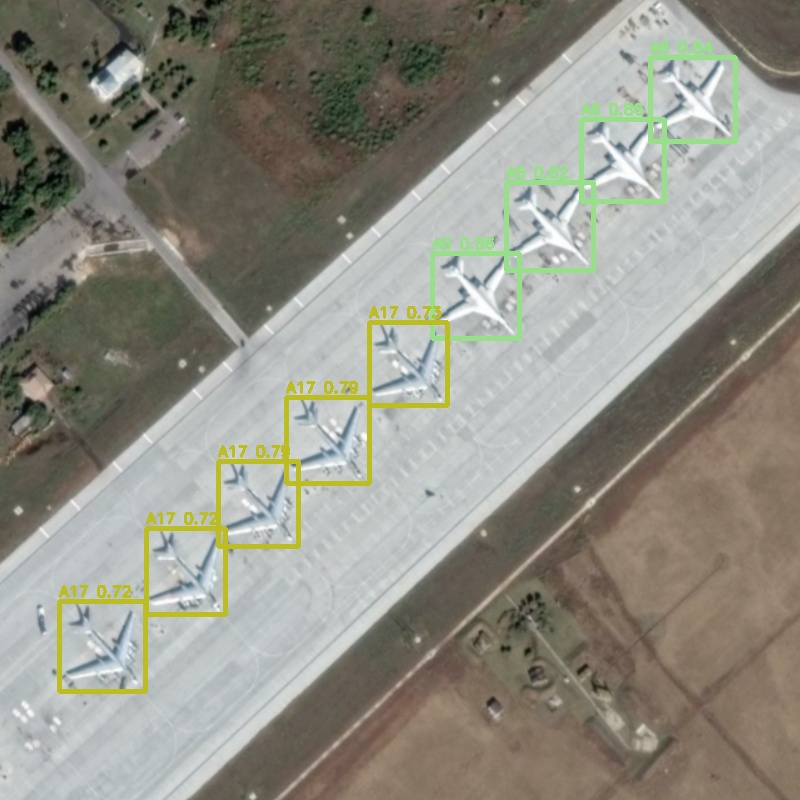A17: (59, 601, 145, 691), (286, 397, 369, 483), (218, 461, 298, 546), (146, 528, 225, 614), (369, 322, 447, 405)
A6: (506, 182, 593, 270), (432, 253, 519, 338), (650, 57, 735, 141), (581, 119, 664, 201)
